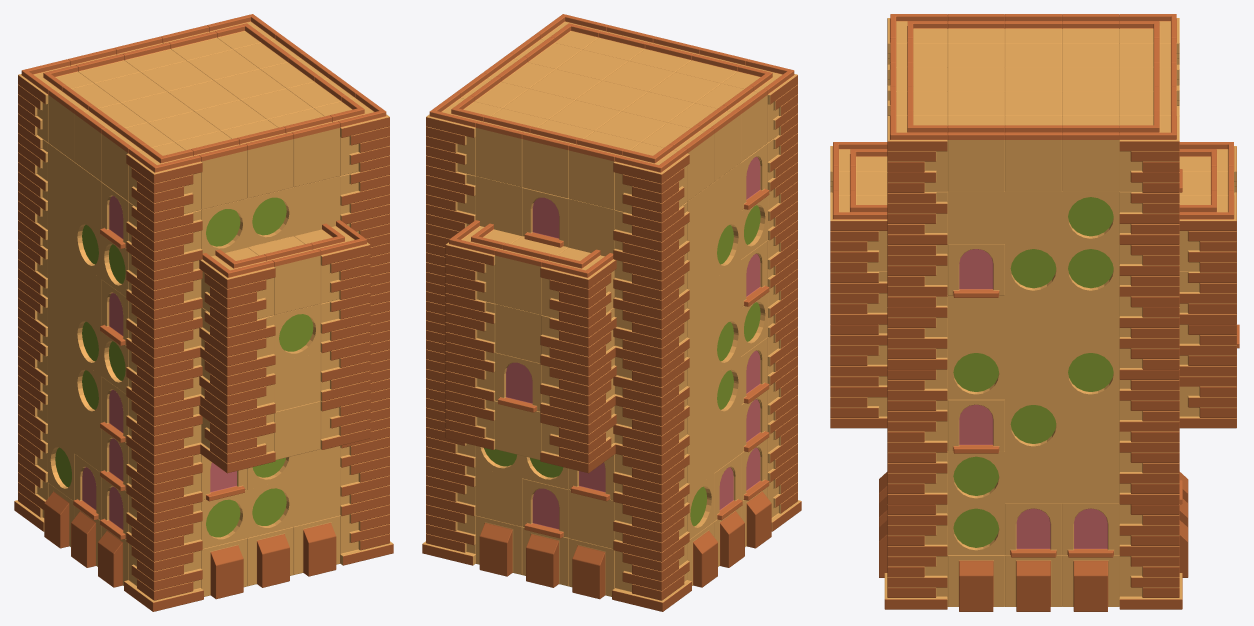
The model's file is house v3.017.fbx.
The picture shows the model from 3 angles, left to right: view 1: azimuth 30°, elevation 25°; view 2: azimuth 150°, elevation 25°; view 3: azimuth 270°, elevation 25°; orthographic projection. The views are drawn at different scales.
Visible parts, largest first — view 1: House; view 2: House; view 3: House.
Part boxes in pixels (bbox=[...]): House: bbox=[14, 14, 393, 611]; House: bbox=[422, 14, 801, 611]; House: bbox=[830, 14, 1239, 611].
Size of the model in its own units: 540 by 910 by 715.
